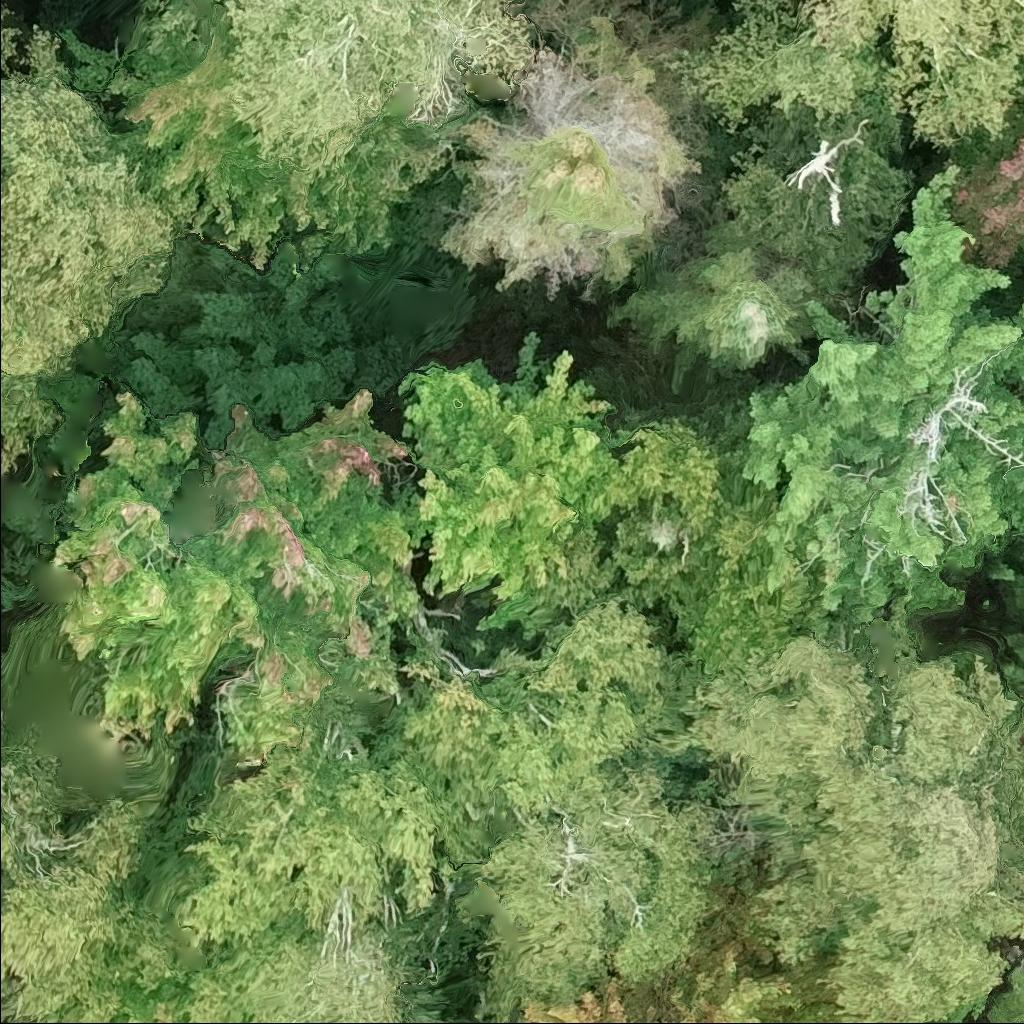crown: (736, 163, 1023, 620), (697, 644, 1023, 1023), (0, 46, 176, 435), (679, 0, 1023, 149), (213, 0, 479, 180), (439, 118, 649, 306), (602, 244, 814, 371), (947, 92, 1023, 267), (981, 568, 1023, 695), (989, 955, 1023, 1023), (1003, 291, 1023, 404), (1021, 80, 1023, 84)
